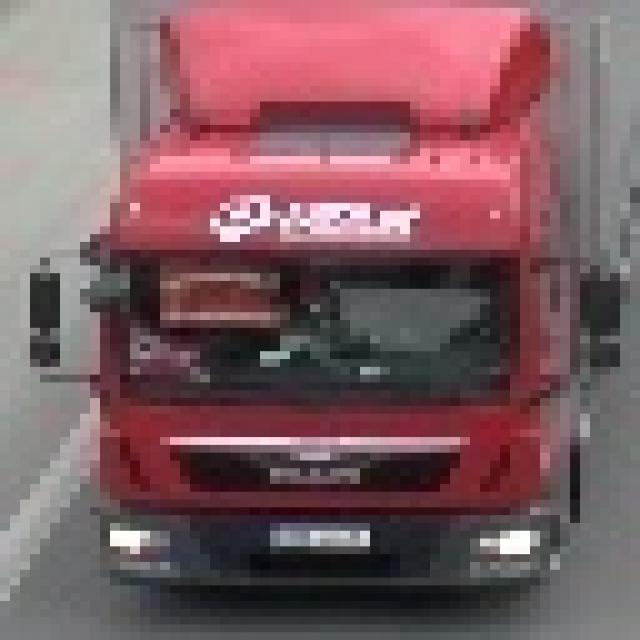Truck: (30, 0, 640, 585)
